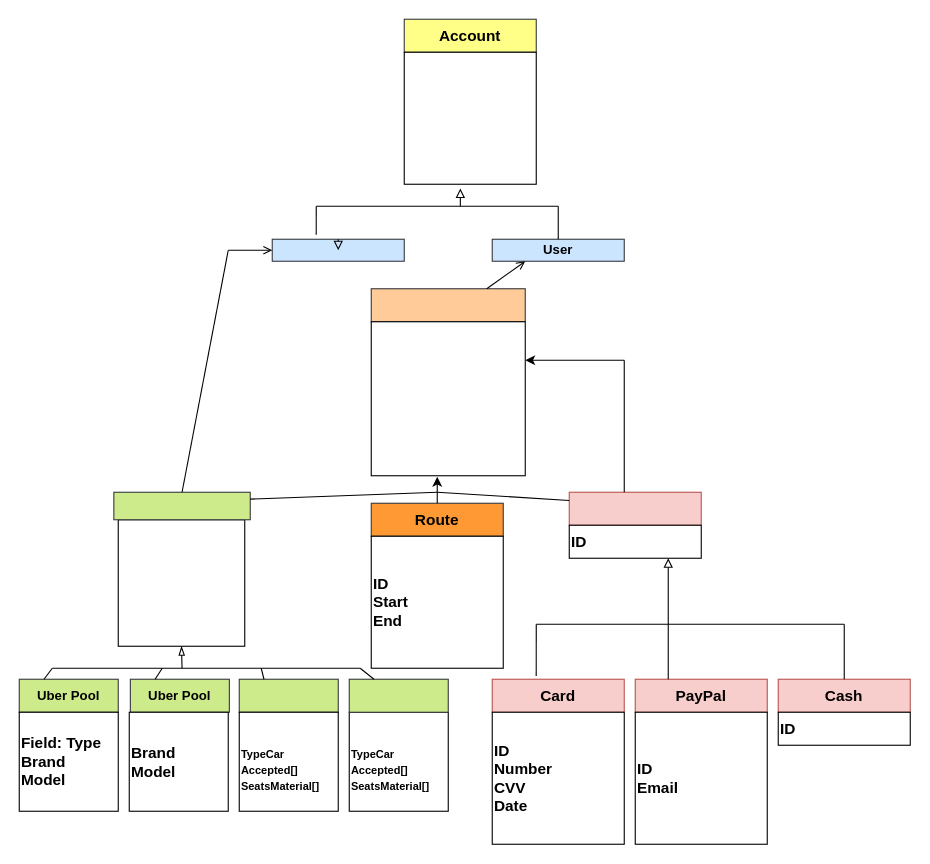
The diagram is 930 pixels wide and 864 high, and some of its shapes have lost their labels. Each missing label, with the centre of its shape:
"Car" belongs at point 181,505.
"Driver" belongs at point 337,249.
"ID License Driver Passenger" belongs at point 181,582.
"ID Name Document Password" belongs at point 469,117.
"ID User: user Route: route Payment: payments Progress: double Completed: boolean" belongs at point 447,398.
"Payments" belongs at point 634,508.
"Trip" belongs at point 447,305.
"UberBlack" belongs at point 288,695.
"UberVan" belongs at point 398,695.
